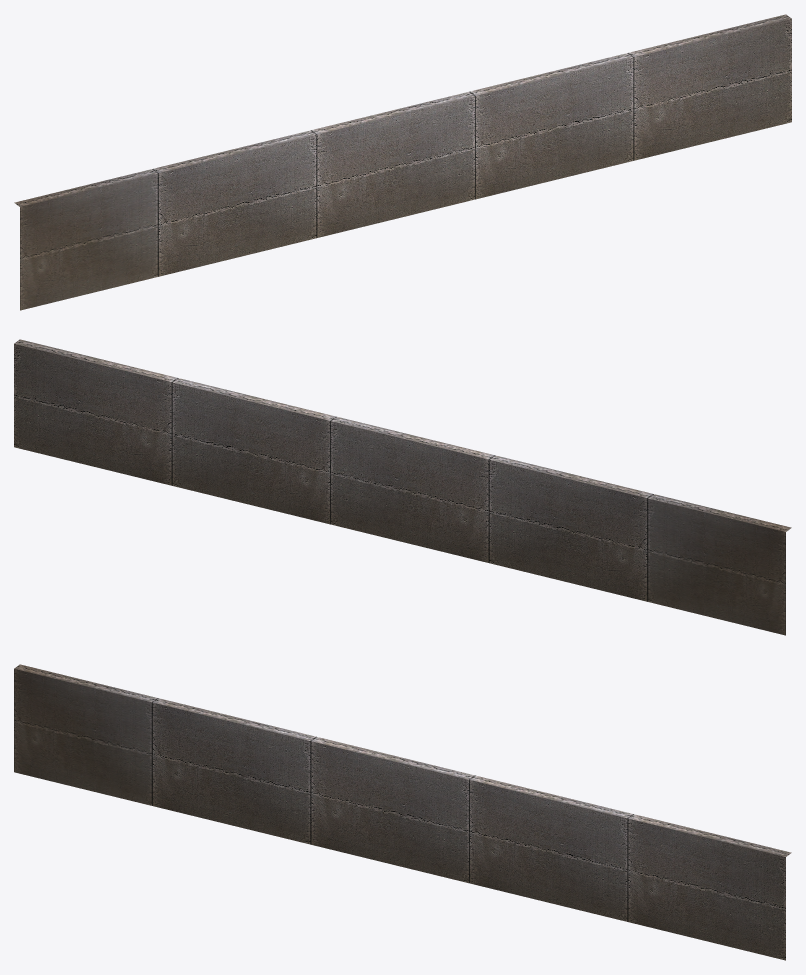
Rendered from M10_Z02_07_Wall04.glb.
3 views of the same model, one above another, from view 1: azimuth 30°, elevation 25°; view 2: azimuth 150°, elevation 25°; view 3: azimuth 330°, elevation 25° (orthographic).
Visible parts, largest first — view 1: M10_Z02_07_WALL04; view 2: M10_Z02_07_WALL04; view 3: M10_Z02_07_WALL04.
Part boxes in pixels (x1,y1,x2,y2): M10_Z02_07_WALL04: [14, 14, 791, 310]; M10_Z02_07_WALL04: [14, 339, 791, 635]; M10_Z02_07_WALL04: [14, 664, 791, 960].
Size of the model in its own units: 19.5 by 2.5 by 0.261.
1 material, 1 textured.
